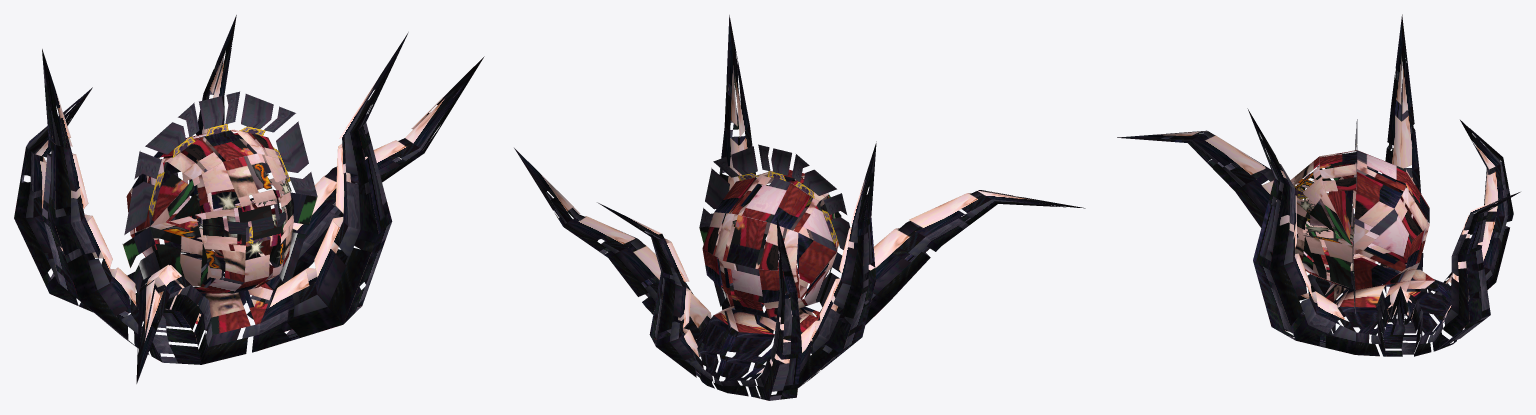
3 views of the same model, side by side, from view 1: azimuth 30°, elevation 25°; view 2: azimuth 150°, elevation 25°; view 3: azimuth 270°, elevation 25° (orthographic). The views are drawn at different scales.
Parts seen in each view (by area): view 1: T1L6M005_16; view 2: T1L6M005_16; view 3: T1L6M005_16.
Part boxes in pixels (x1,y1,x2,y2): T1L6M005_16: (14,15,484,383); T1L6M005_16: (514,15,1085,400); T1L6M005_16: (1117,14,1520,356).
Size of the model in its own units: 3.47 by 2.13 by 2.85.
